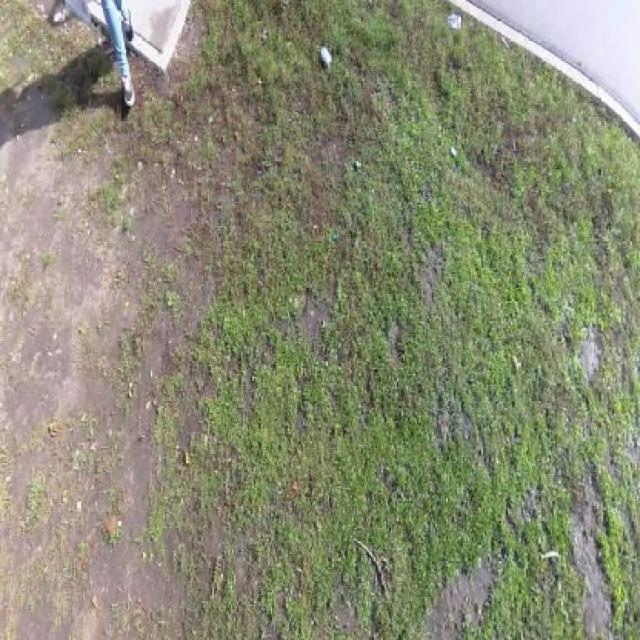Garbage: (316, 45, 332, 71), (448, 13, 461, 29)
